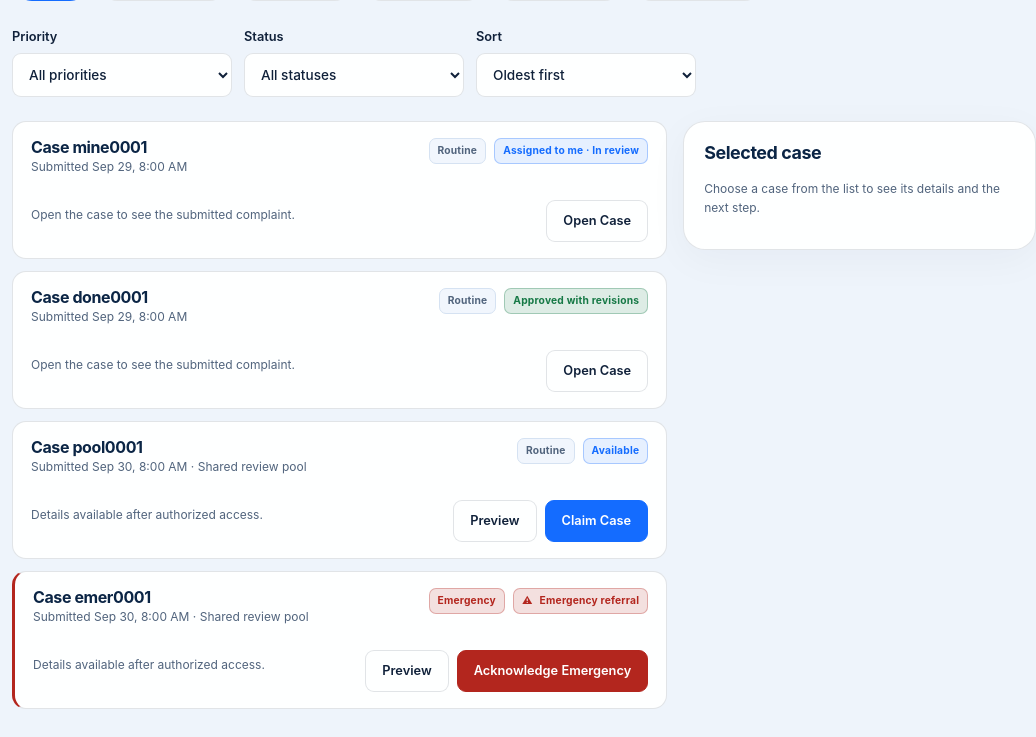
CasesPage › claims a case and re-reads the queue from the server
(page scrolled)
Click the button with aria-label "Claim Case pool0001".
click(596, 521)  # box [545,500,648,542]
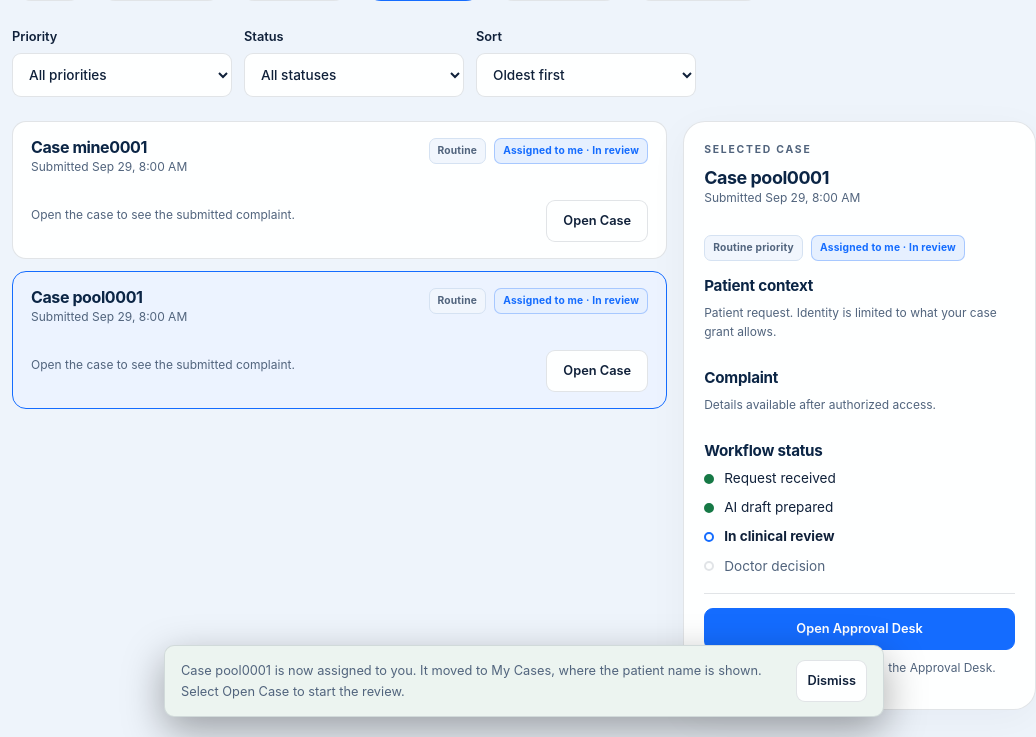
Now the text "Case pool0001 is now assigned to you" is shown, box [181,663,762,699]
Now the number of headings "Case pool0001" is 2, box [31,287,142,307]; [704,167,829,188]
Click the button "Dismiss".
click(832, 681)  # box [796,660,867,702]
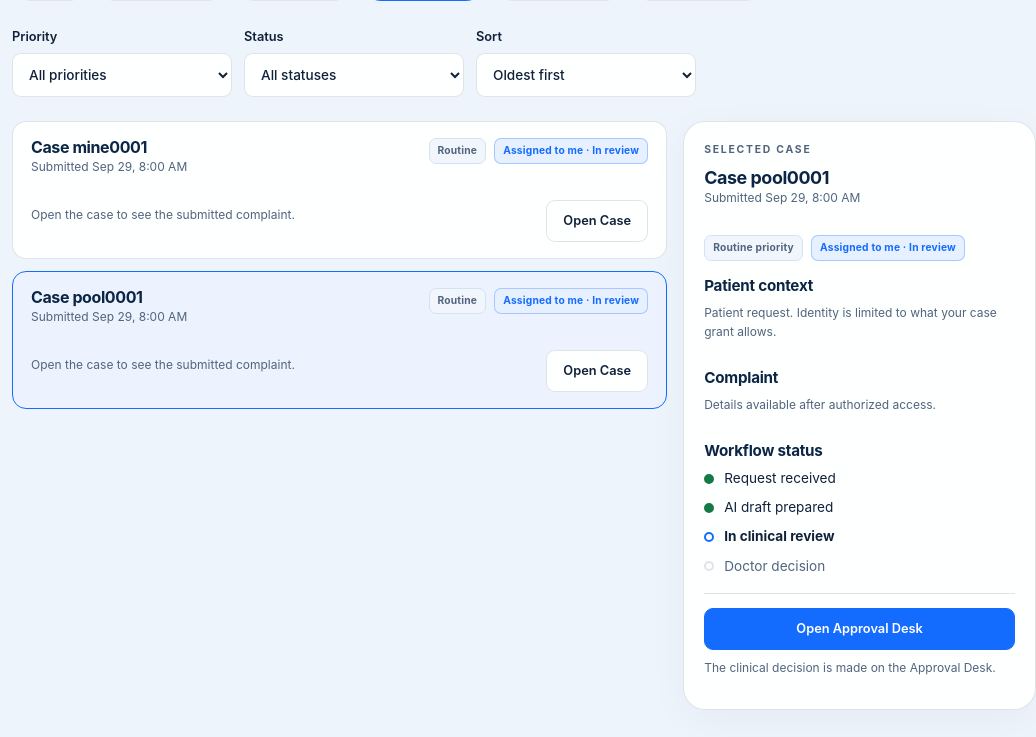
Now the text "is now assigned to you" is gone
